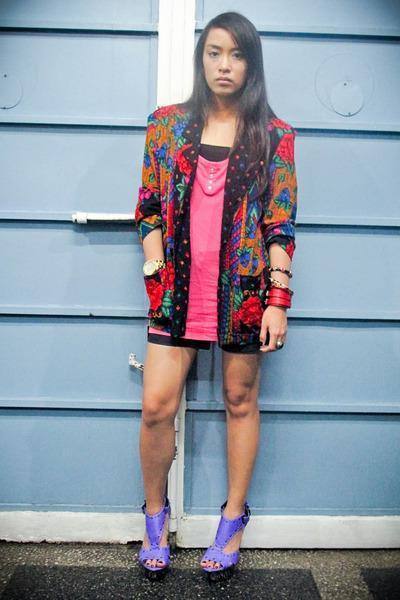jacket: (137, 101, 302, 354)
